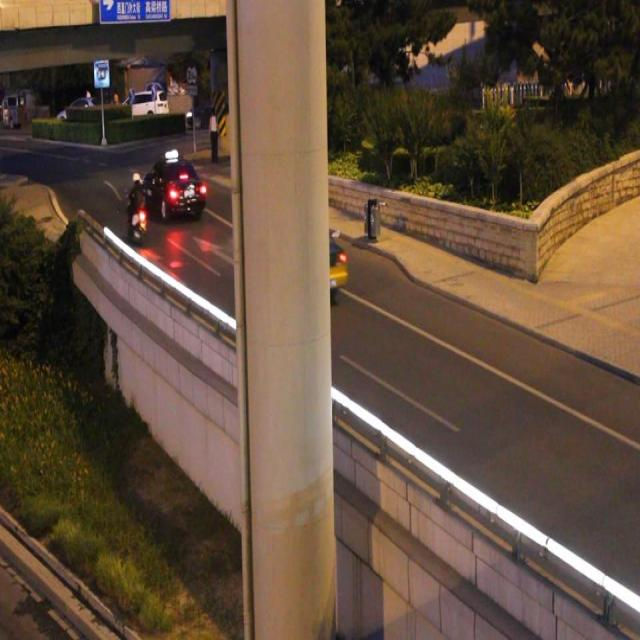car: (253, 219, 340, 295), (142, 159, 205, 217)
